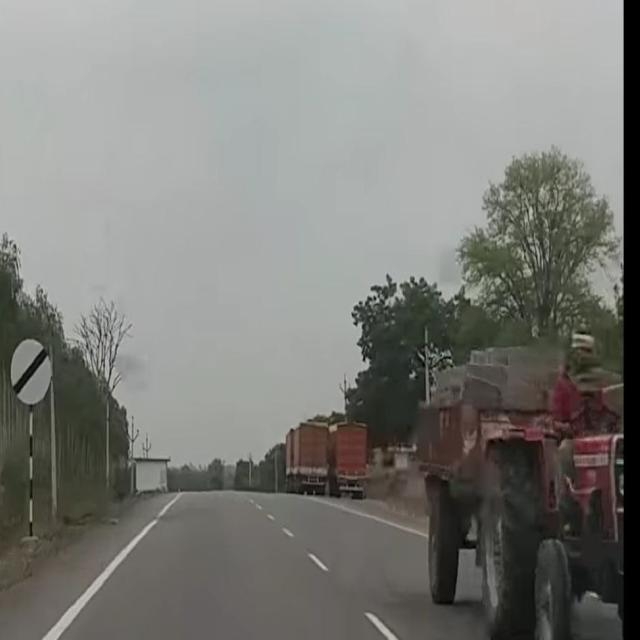restriction ends: (12, 340, 54, 404)
